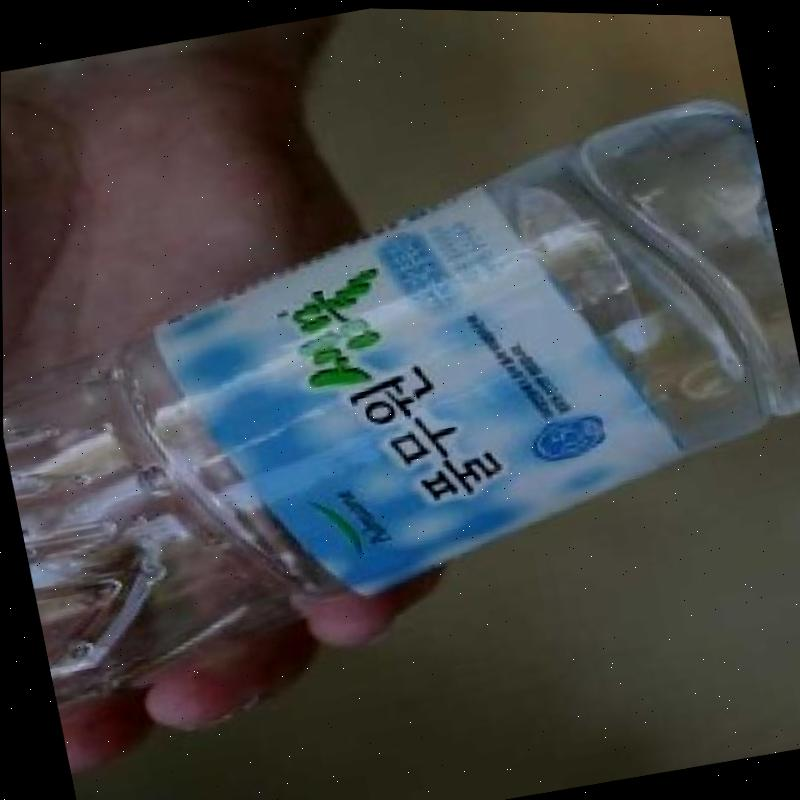botella: (0, 76, 800, 725)
